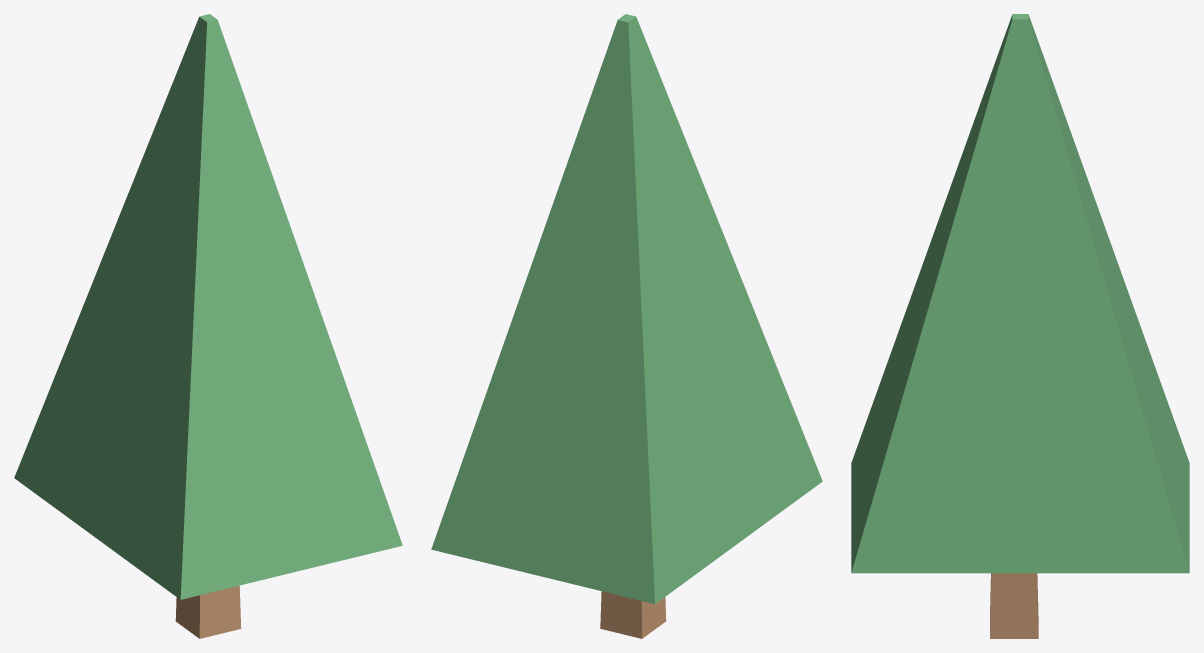
The model's file is fir.gltf.
The picture shows the model from 3 angles, left to right: view 1: azimuth 30°, elevation 25°; view 2: azimuth 150°, elevation 25°; view 3: azimuth 270°, elevation 25°; orthographic projection.
Visible parts, largest first — view 1: Cube; view 2: Cube; view 3: Cube.
Part boxes in pixels (<box>): Cube: <box>14,14,402,638</box>; Cube: <box>431,14,822,638</box>; Cube: <box>851,14,1189,638</box>.
Size of the model in its own units: 3.63 by 9.44 by 4.71.
Materials: 1 (1 with a texture image).
